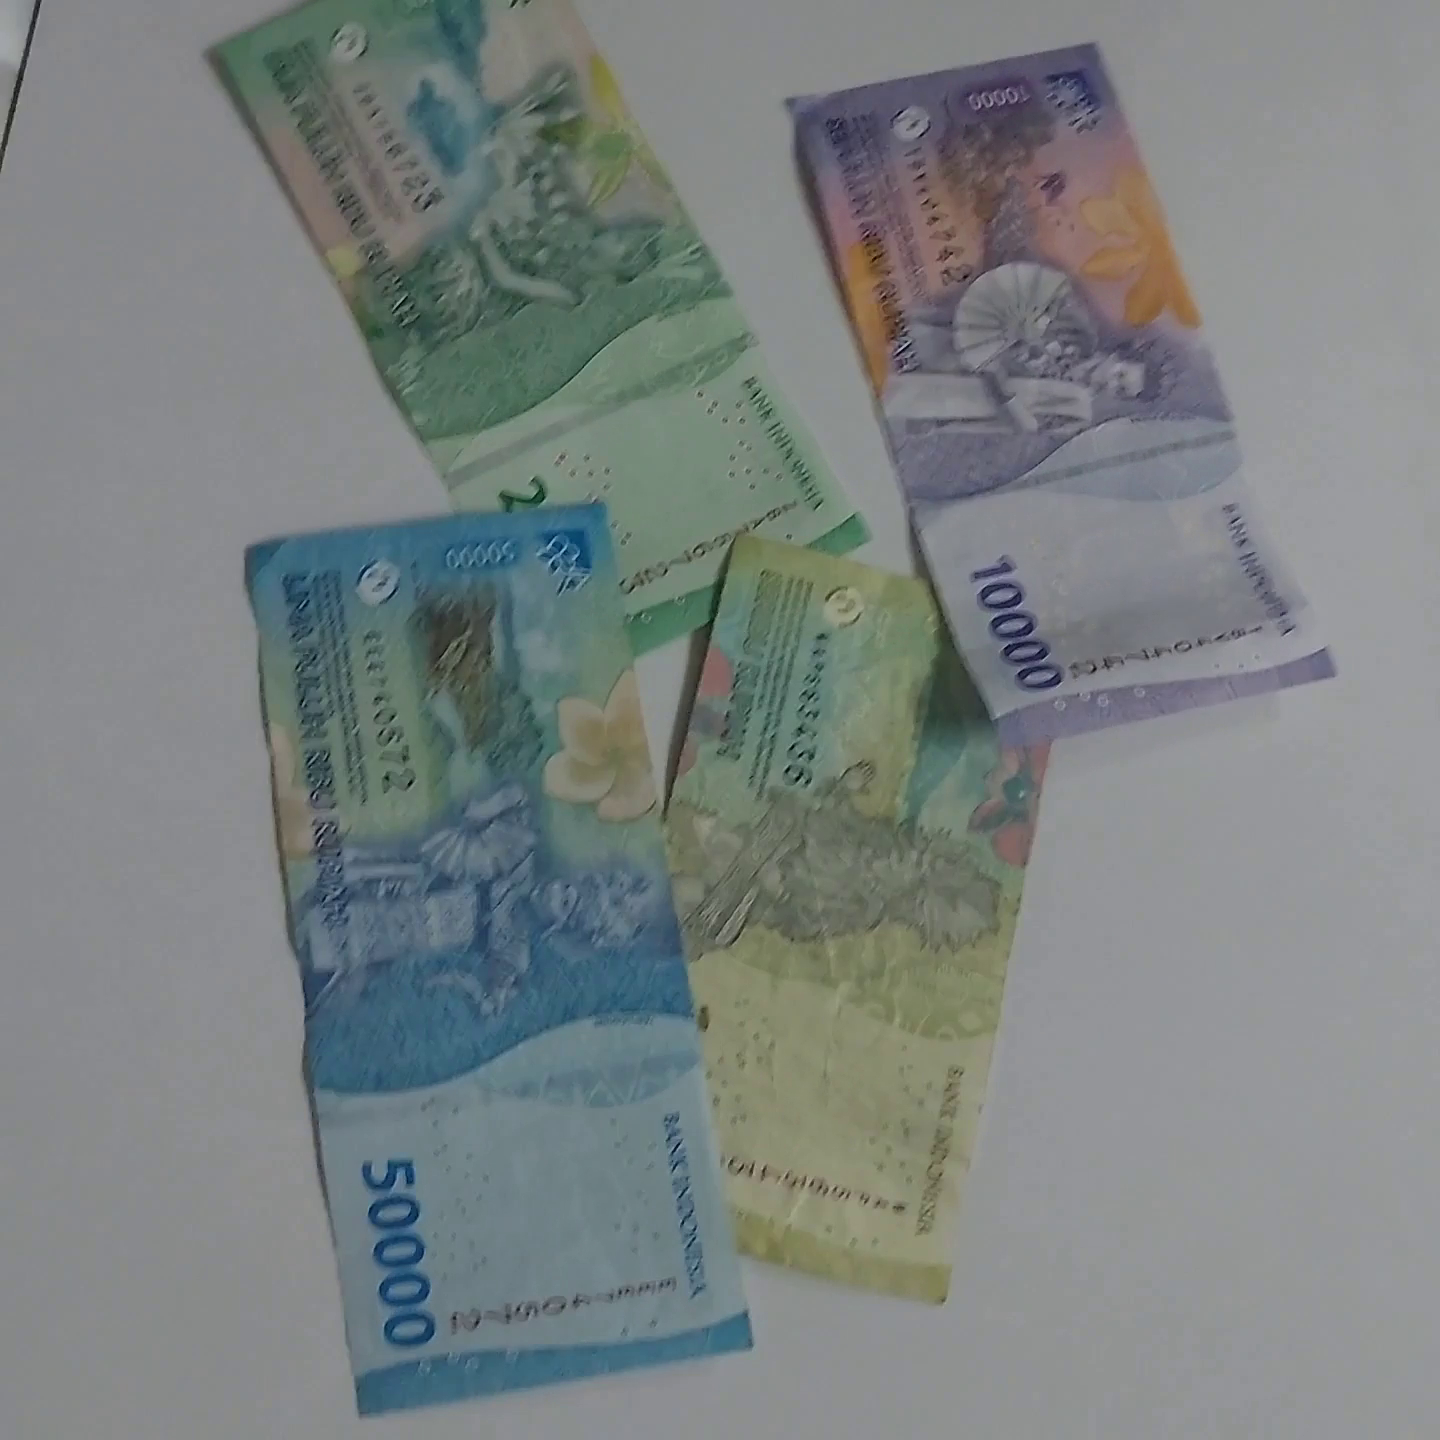10k: (742, 30, 1361, 721)
1k: (724, 481, 1101, 1276)
20k: (154, 0, 923, 609)
50k: (206, 501, 765, 1429)
